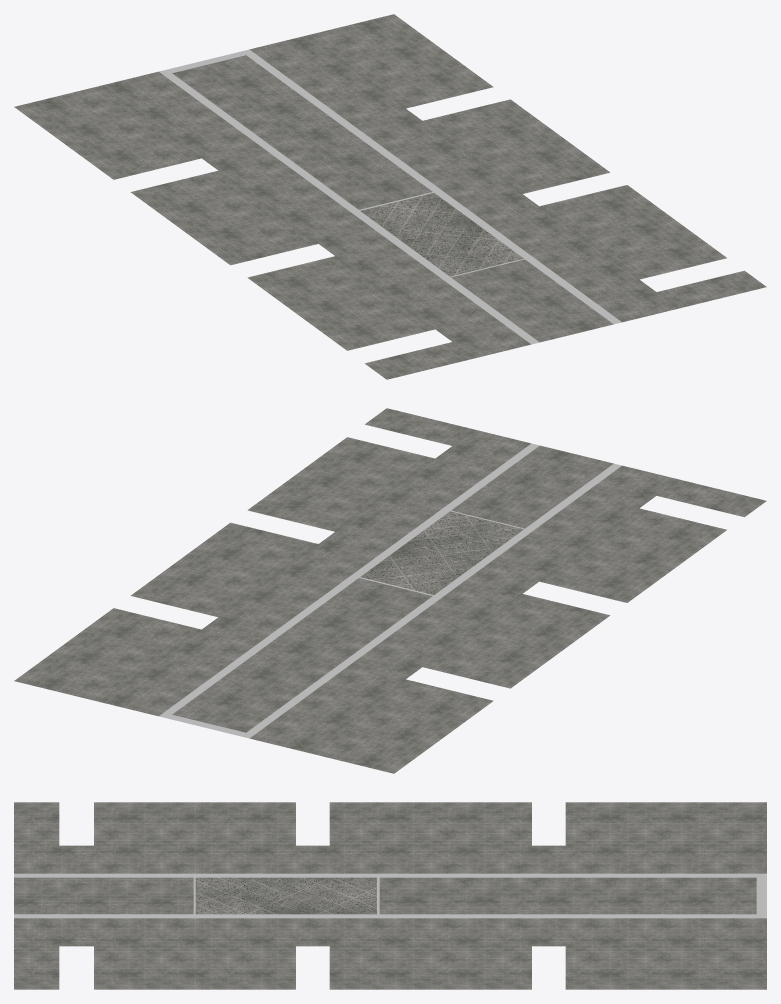
The model's file is Floor_segment.gltf.
3 views of the same model, one above another, from view 1: azimuth 30°, elevation 25°; view 2: azimuth 150°, elevation 25°; view 3: azimuth 270°, elevation 25° (orthographic).
Visible parts, largest first — view 1: Floor_segment_033, Floor_segment_002, Floor_segment_011, Floor_segment_029, Floor_segment_042, Floor_segment_005, Floor_segment_032, Floor_segment_034, Floor_segment_004, Floor_segment_021, Floor_segment_010, Floor_segment_017 (+32 smaller); view 2: Floor_segment_033, Floor_segment_002, Floor_segment_011, Floor_segment_029, Floor_segment_042, Floor_segment_005, Floor_segment_032, Floor_segment_034, Floor_segment_004, Floor_segment_021, Floor_segment_010, Floor_segment_017 (+32 smaller); view 3: Floor_segment_033, Floor_segment_002, Floor_segment_011, Floor_segment_029, Floor_segment_042, Floor_segment_005, Floor_segment_032, Floor_segment_034, Floor_segment_004, Floor_segment_010, Floor_segment_017, Floor_segment_021 (+32 smaller).
Boxes of the visible parts, x1,y1,x2,y2 form: Floor_segment_033: (208,85,348,144); Floor_segment_002: (442,256,582,315); Floor_segment_011: (325,171,465,229); Floor_segment_029: (275,134,415,193); Floor_segment_042: (392,220,531,278); Floor_segment_005: (159,49,298,107); Floor_segment_032: (64,121,201,179); Floor_segment_034: (356,50,493,108); Floor_segment_004: (297,292,434,350); Floor_segment_021: (589,221,726,279); Floor_segment_010: (181,207,317,265); Floor_segment_017: (473,136,609,193); Floor_segment_033: (208,643,348,702); Floor_segment_002: (442,472,582,531); Floor_segment_011: (325,558,465,616); Floor_segment_029: (275,594,415,653); Floor_segment_042: (392,509,531,567); Floor_segment_005: (159,680,298,738); Floor_segment_032: (356,679,493,737); Floor_segment_034: (64,608,201,666); Floor_segment_004: (589,508,726,566); Floor_segment_021: (297,437,434,495); Floor_segment_010: (473,594,609,651); Floor_segment_017: (181,522,317,580); Floor_segment_033: (565,873,667,918); Floor_segment_002: (94,873,195,918); Floor_segment_011: (329,873,430,918); Floor_segment_029: (431,873,531,918); Floor_segment_042: (195,873,295,918); Floor_segment_005: (667,873,766,918); Floor_segment_032: (565,802,667,845); Floor_segment_034: (565,946,667,989); Floor_segment_004: (94,802,195,845); Floor_segment_010: (329,802,430,845); Floor_segment_017: (329,946,430,989); Floor_segment_021: (94,946,195,989).
Bounding box in the file's own units: 26.31 × 4.49e-07 × 44.7.
